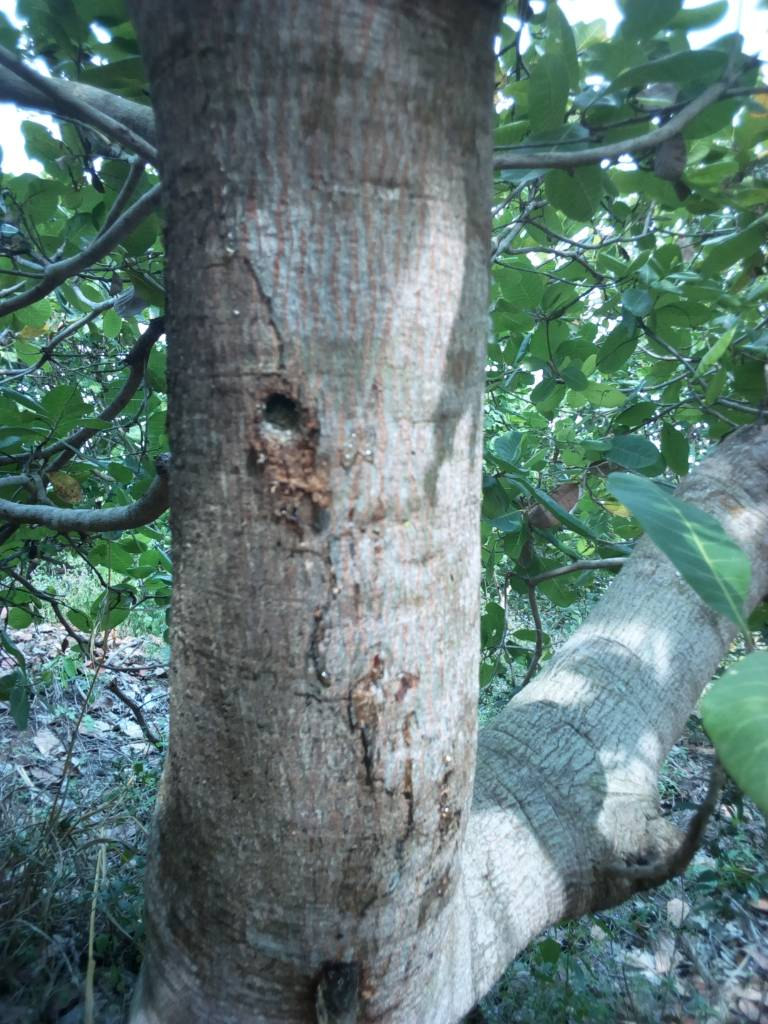Apate terebrans: (226, 378, 345, 531)
